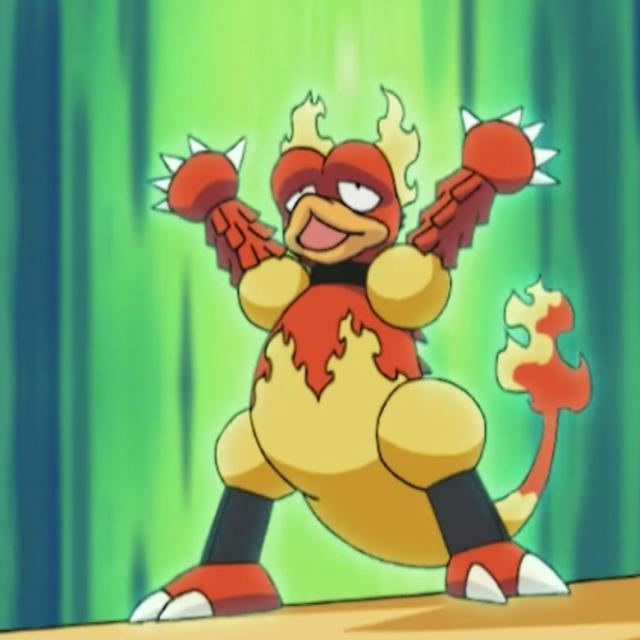Magmar: (154, 100, 526, 604)
